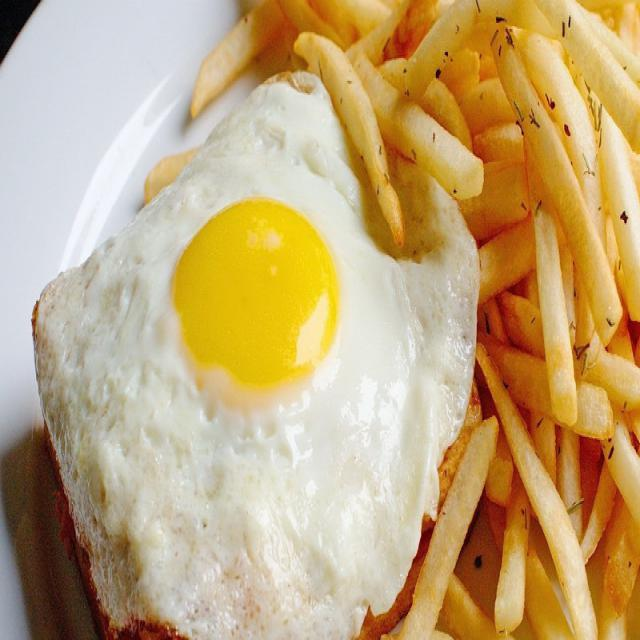Fried Egg: (41, 74, 476, 638)
